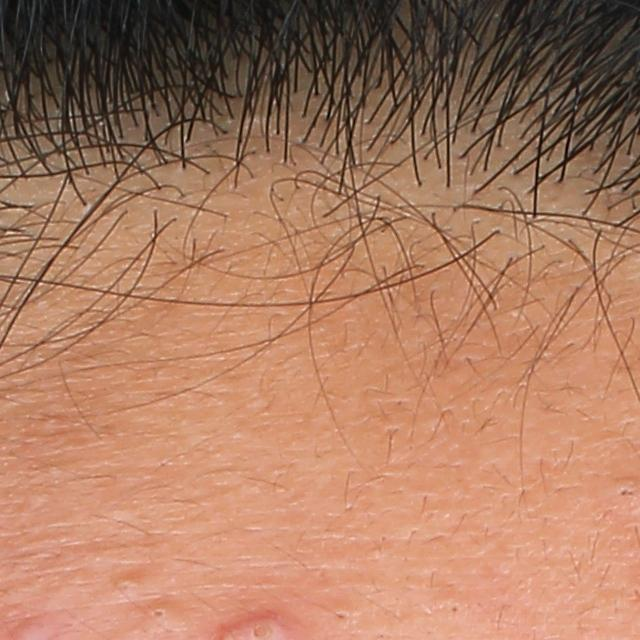comedo: (144, 602, 182, 632), (112, 571, 143, 595), (609, 480, 639, 503), (330, 606, 352, 626), (447, 602, 462, 616)
